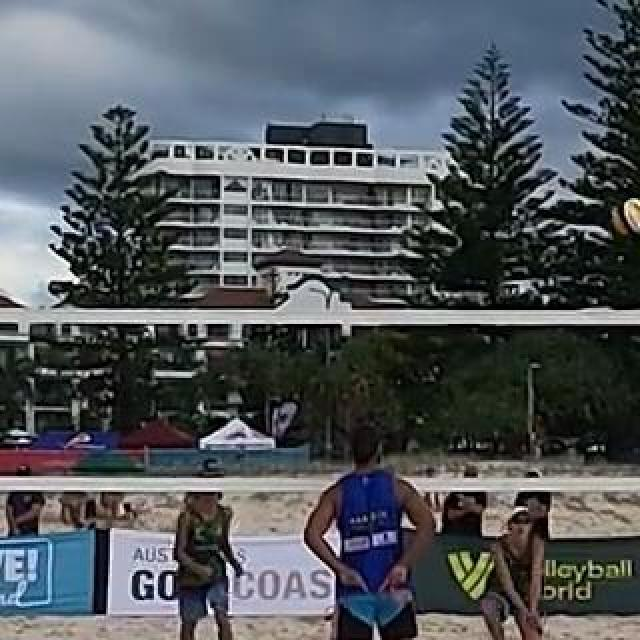volleyball: (613, 200, 639, 236)
